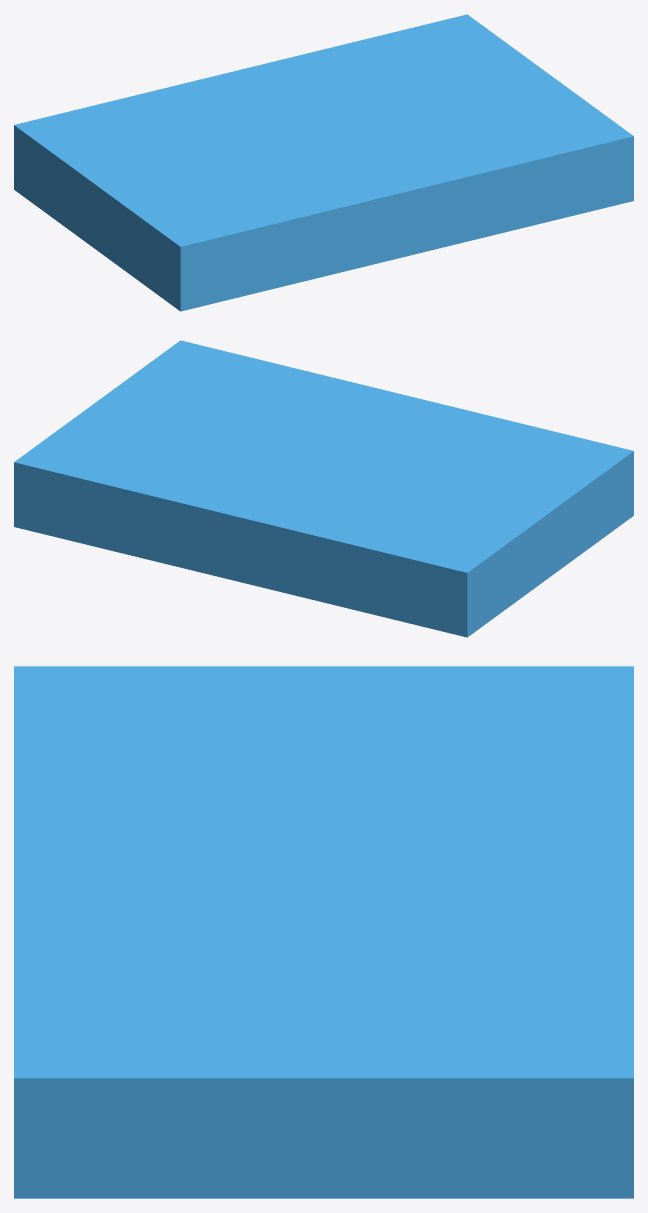
File: prop_keycard_blue_glow.glb
The picture shows the model from 3 angles, top to bottom: view 1: azimuth 30°, elevation 25°; view 2: azimuth 150°, elevation 25°; view 3: azimuth 270°, elevation 25°; orthographic projection. The views are drawn at different scales.
Parts seen in each view (by area): view 1: prop_keycard_blue_glow; view 2: prop_keycard_blue_glow; view 3: prop_keycard_blue_glow.
Boxes of the visible parts, bbox=[...] form: prop_keycard_blue_glow: bbox=[14, 14, 633, 311]; prop_keycard_blue_glow: bbox=[14, 340, 633, 637]; prop_keycard_blue_glow: bbox=[14, 666, 633, 1198].
Bounding box in the file's own units: 0.22 × 0.03 × 0.14.
1 material, 1 textured.
